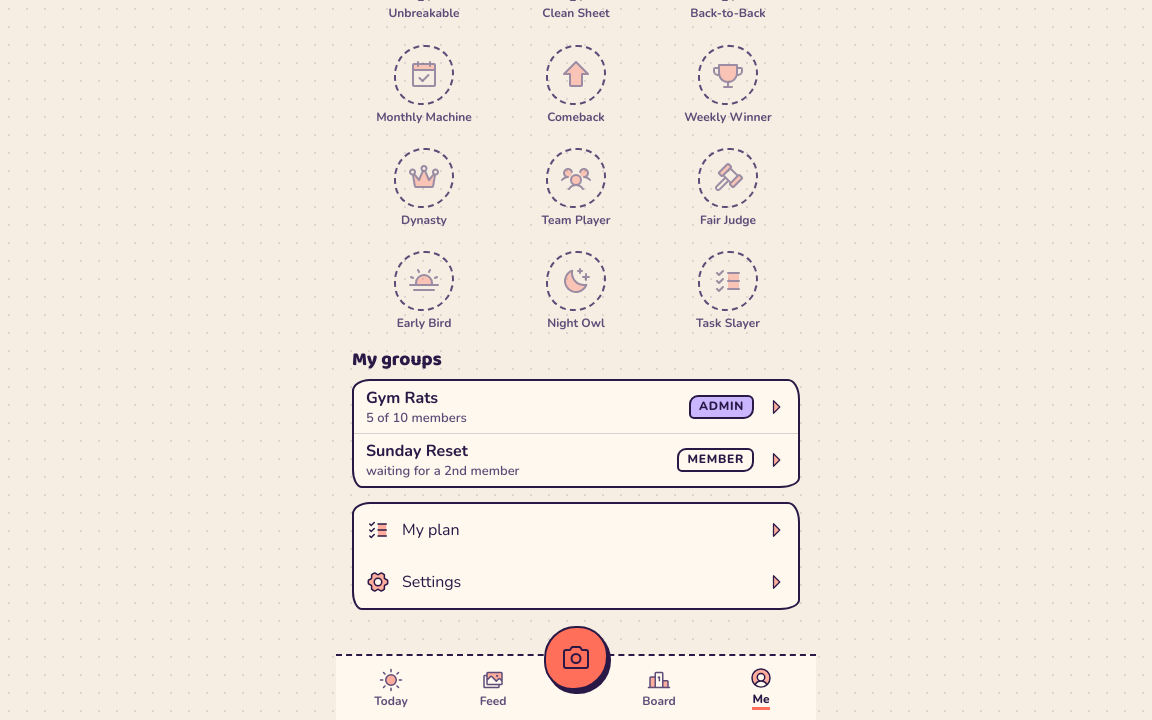
Scenario: Me > My groups › a row opens group settings with the read-only time zone; Back returns to Me
The width and height of the screenshot is (1152, 720).
Later steps or results of the test are not shown.
(page scrolled)
Step 1. Click the link "Sunday Reset waiting for a 2nd member Member" → (417, 451), box [354,434,798,486]
(page scrolled)
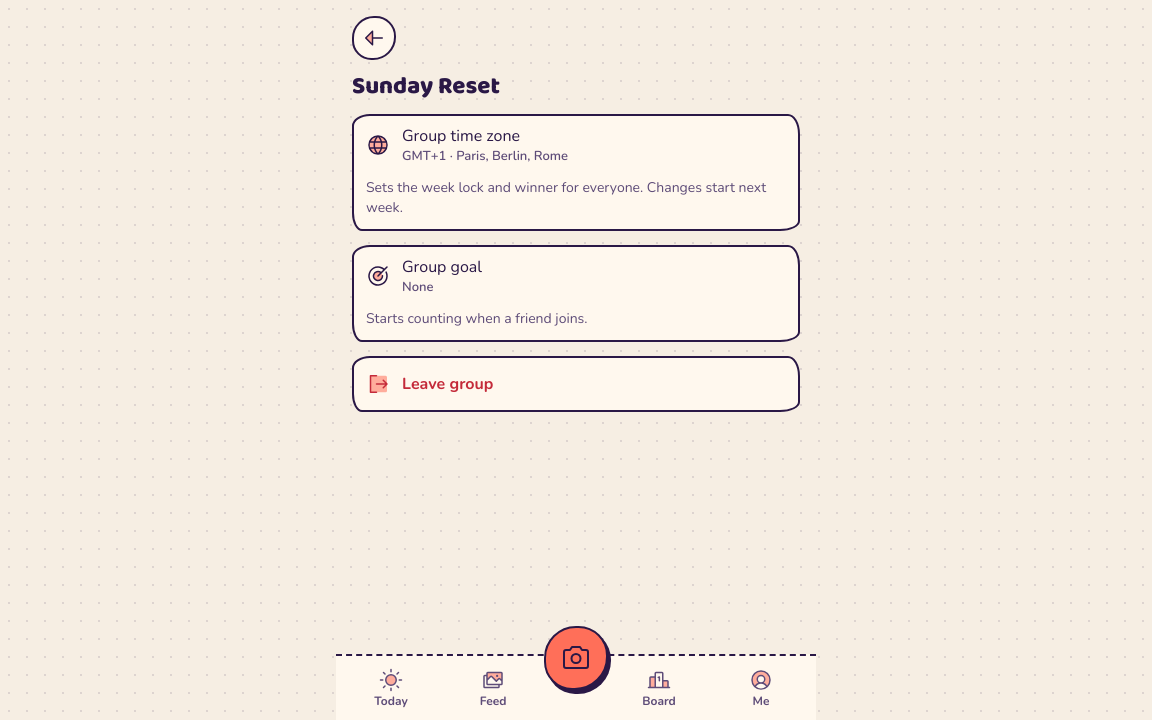
Result: the heading "Sunday Reset" is shown at [352,67,500,106]
Result: the text "Group time zone" is shown at [402,125,520,147]
Result: the text "GMT+1 · Paris, Berlin, Rome" is shown at [402,147,568,165]
